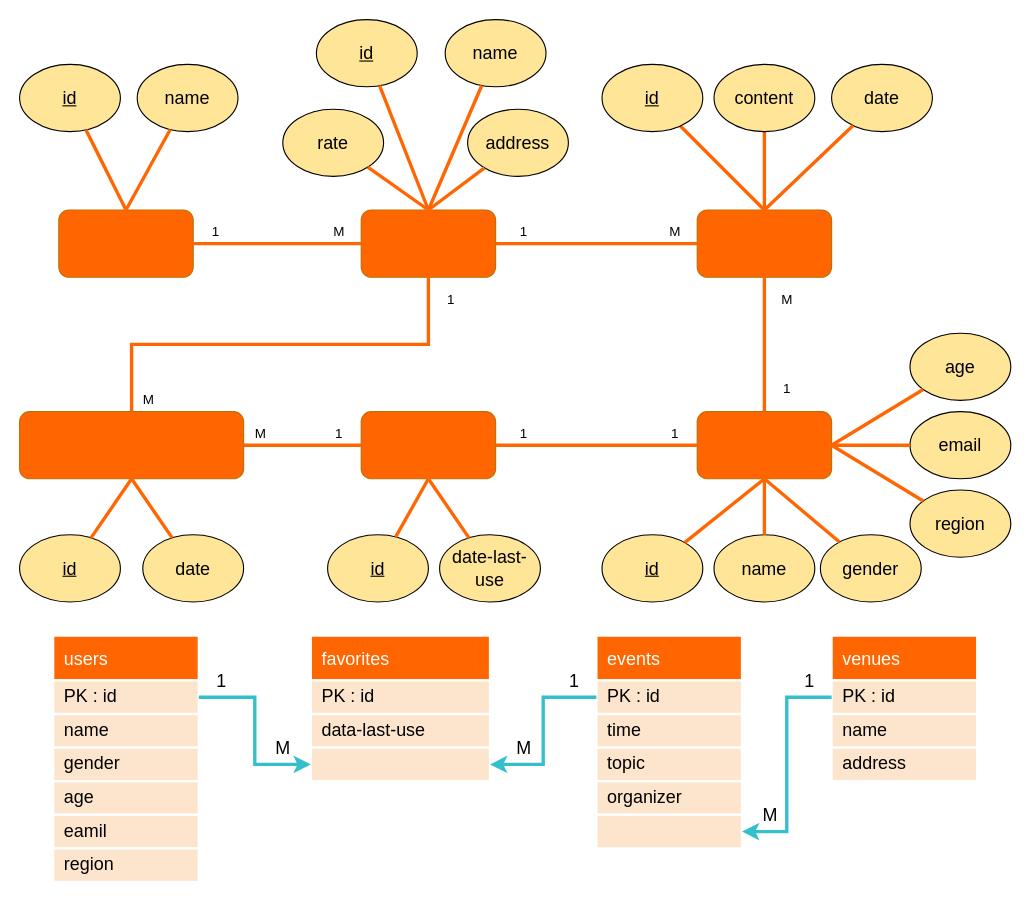
Some shapes in this 1030 by 907 pixel diagram are drawn without their labels. The centre of each missing label's shape, as x and y in pixels:
Category: pixel 125 243
Comment: pixel 764 243
Favorite: pixel 428 444
FavoriteRestaurant: pixel 131 444
FK : user_id: pixel 400 764
FK : venue_id: pixel 669 831
Restaurant: pixel 428 243
User: pixel 764 444
